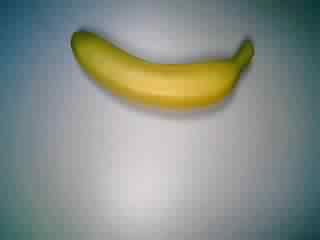banana: (68, 23, 261, 118)
